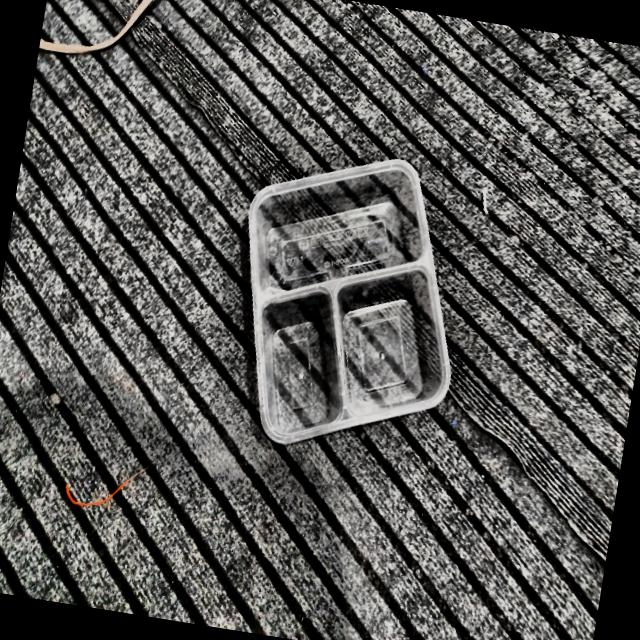plastic container: (248, 159, 450, 445)
